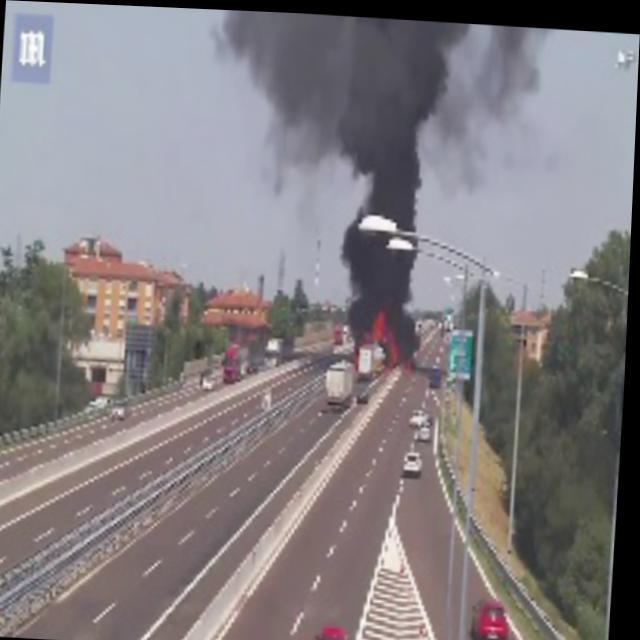fire: (371, 312, 397, 335)
smoke: (448, 18, 551, 180), (264, 14, 356, 152), (355, 21, 416, 158), (340, 155, 429, 216), (341, 232, 407, 306), (411, 19, 442, 125), (207, 7, 266, 60)
